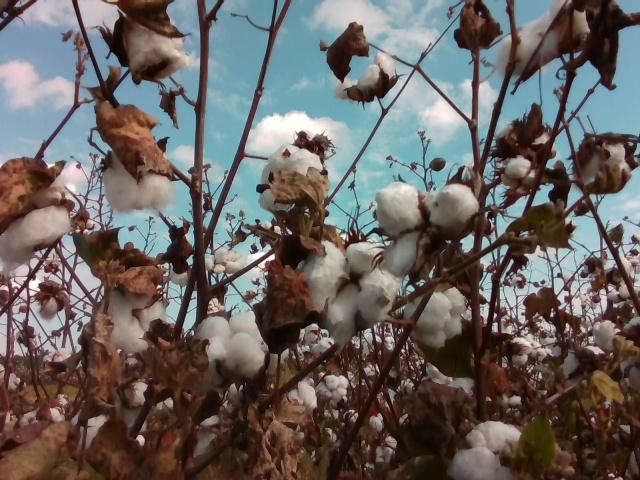cotton_ready: (292, 241, 401, 339), (375, 182, 480, 273), (497, 0, 595, 79), (0, 161, 69, 272), (94, 286, 169, 355), (195, 310, 269, 377), (451, 419, 528, 480), (259, 144, 324, 212), (104, 154, 175, 215), (125, 17, 191, 81), (496, 122, 556, 185), (406, 287, 468, 347), (334, 51, 394, 102), (576, 139, 634, 190)
